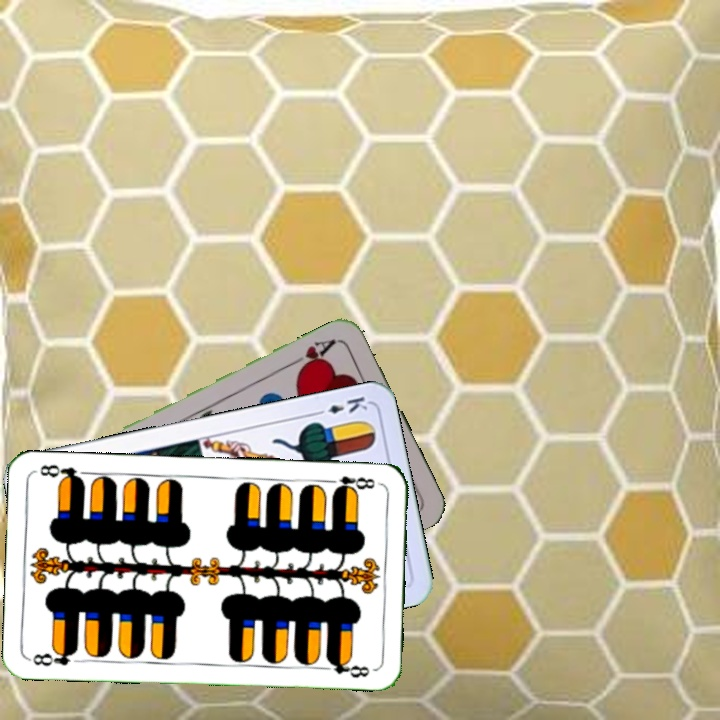E8: (323, 472, 377, 496), (27, 645, 81, 669)
EK: (311, 392, 370, 418)
HA: (285, 334, 339, 375)
